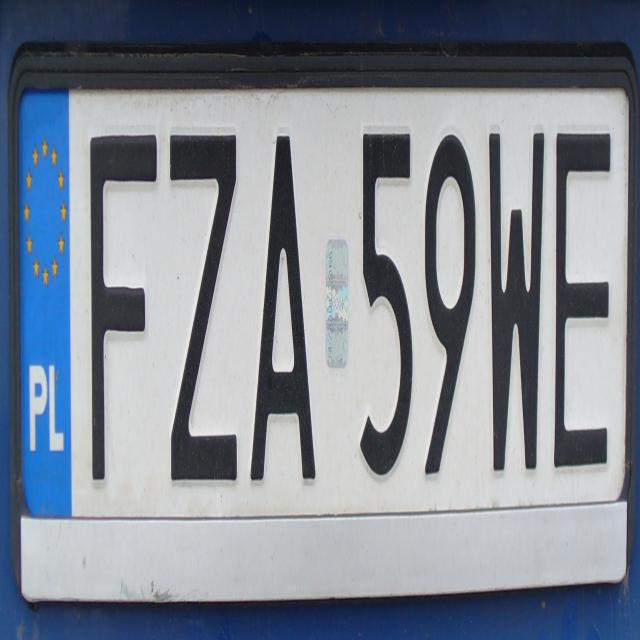pl_license_plate: (19, 92, 629, 518)
